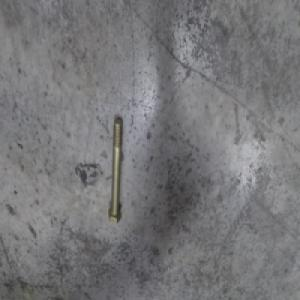Bolt: (107, 118, 125, 227)
